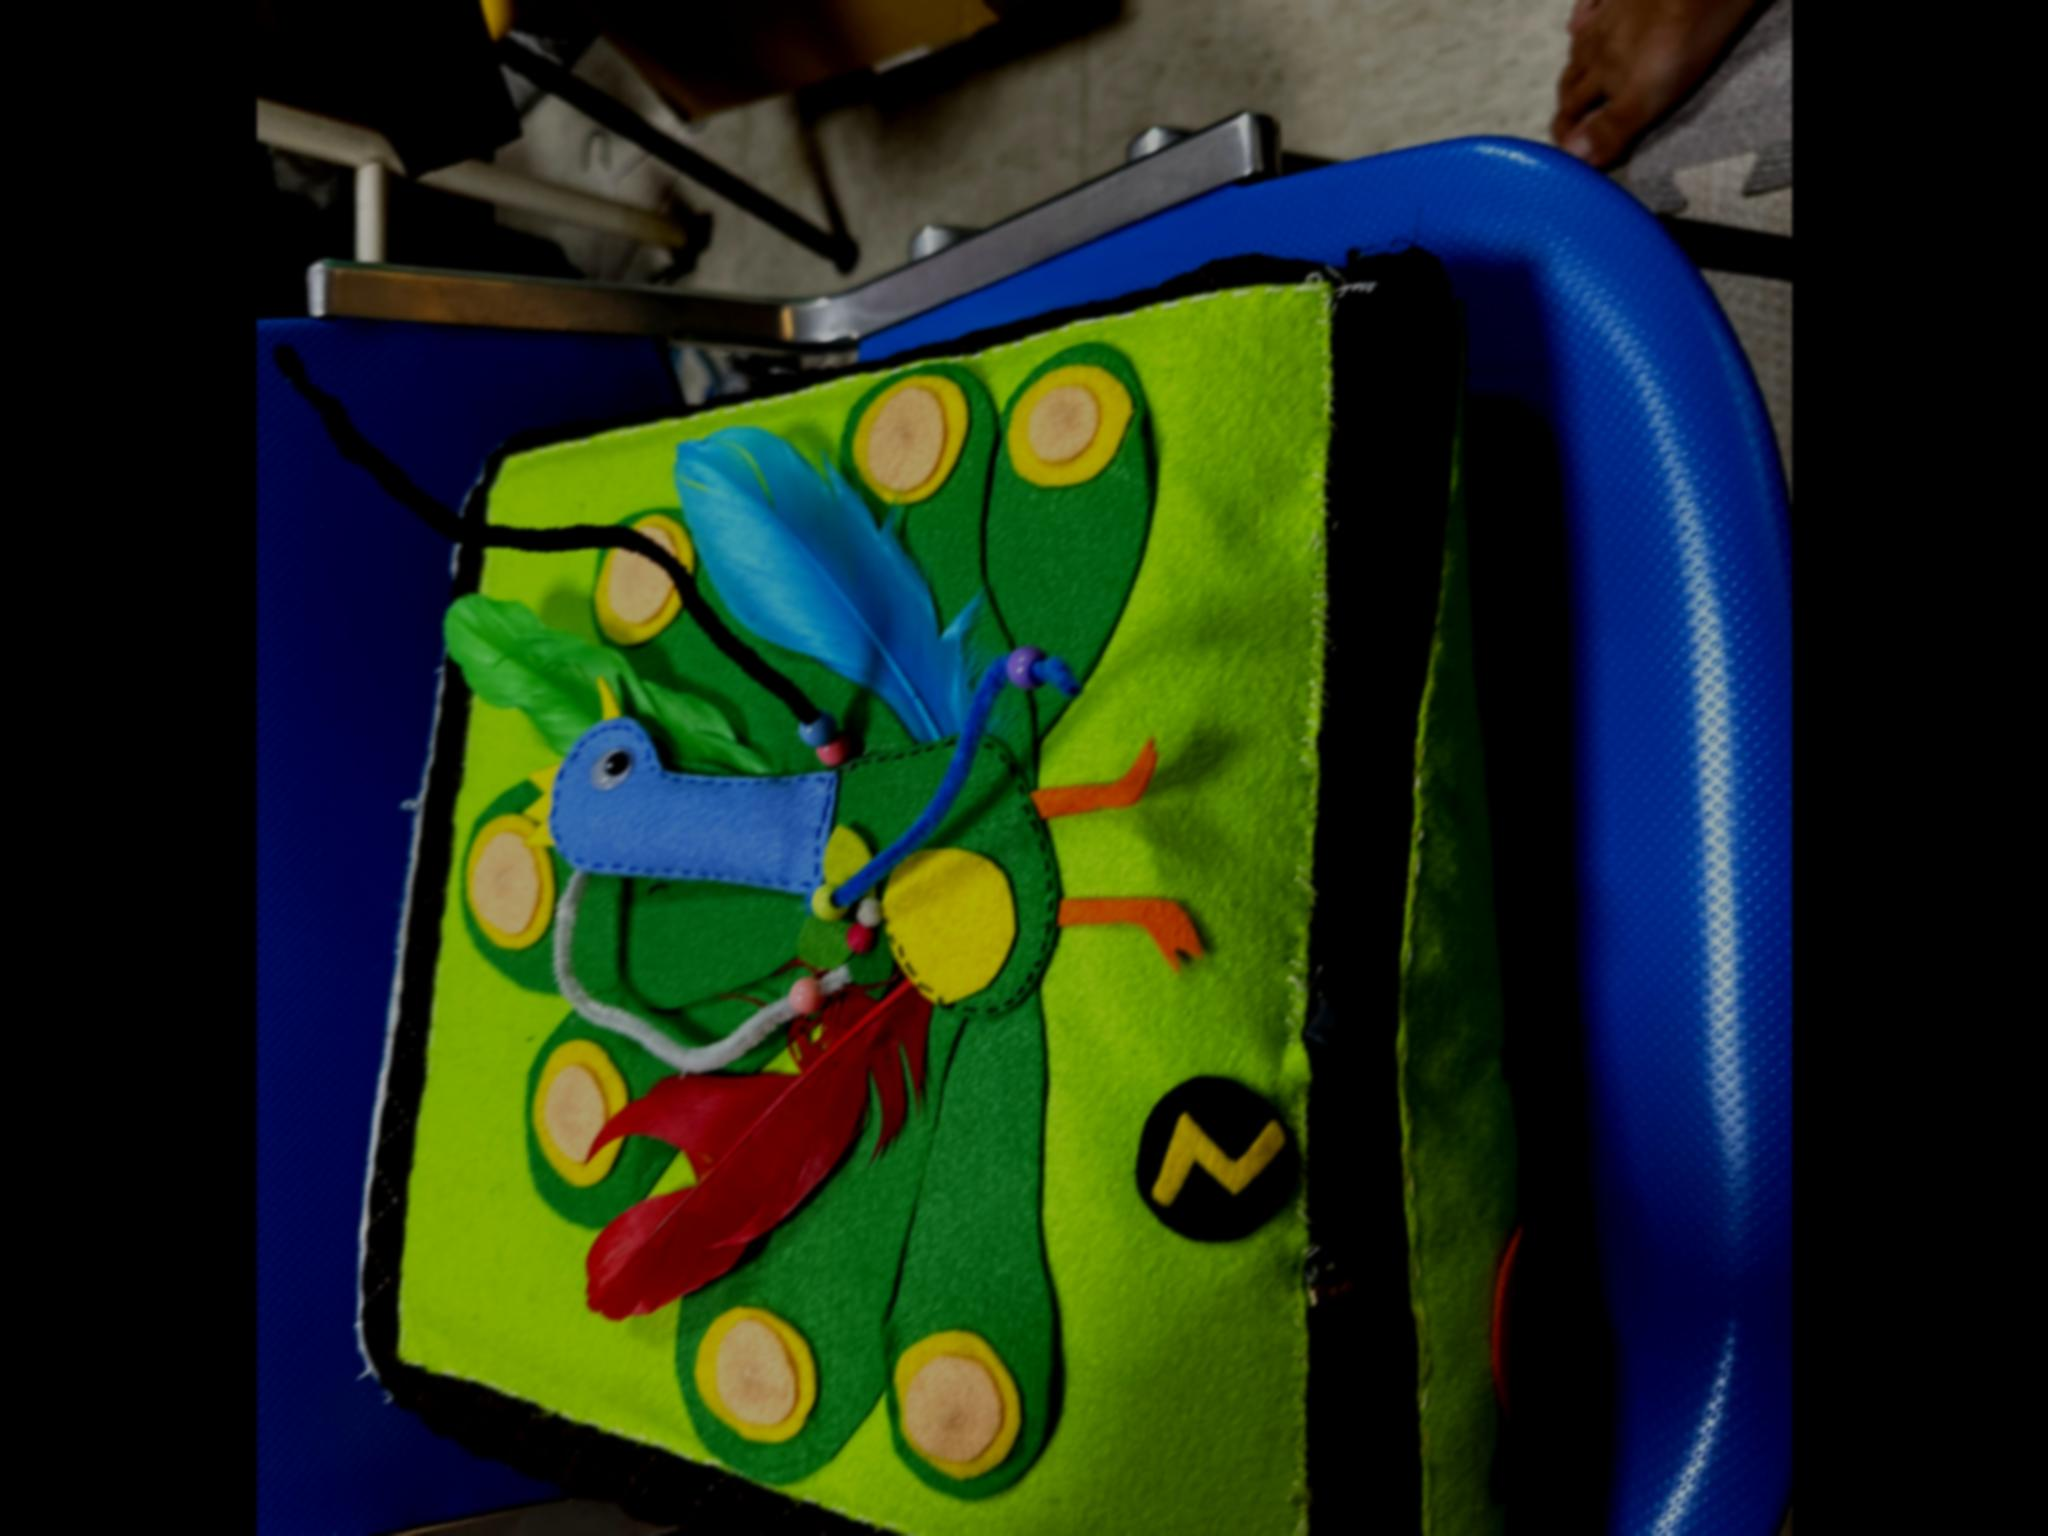bead: (782, 700, 850, 749), (782, 963, 834, 1020), (813, 729, 869, 778), (801, 871, 845, 926), (990, 649, 1045, 687)
